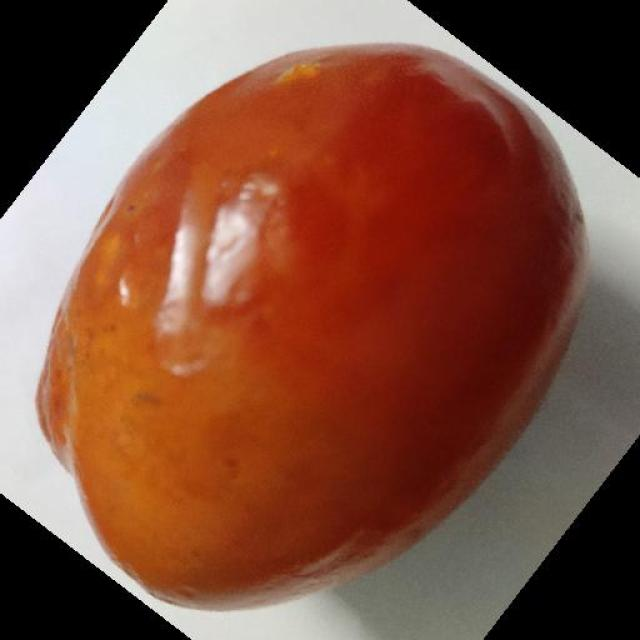Stale_tomato: (26, 34, 590, 577)
